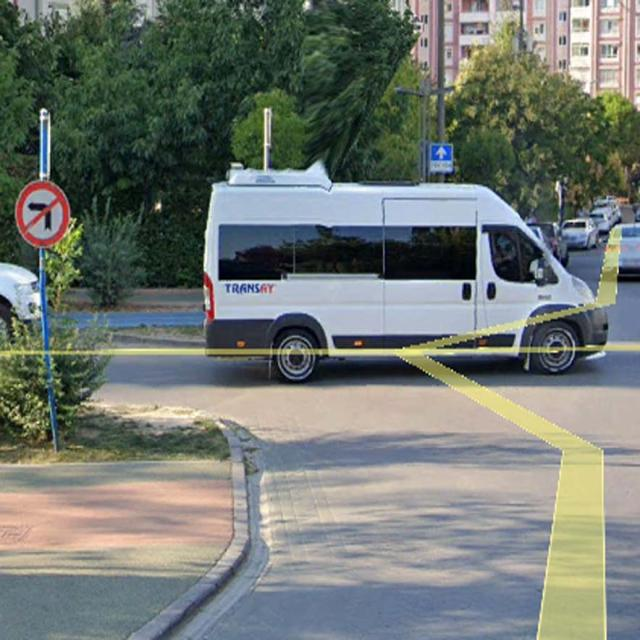soladonulmez: (15, 180, 70, 248)
